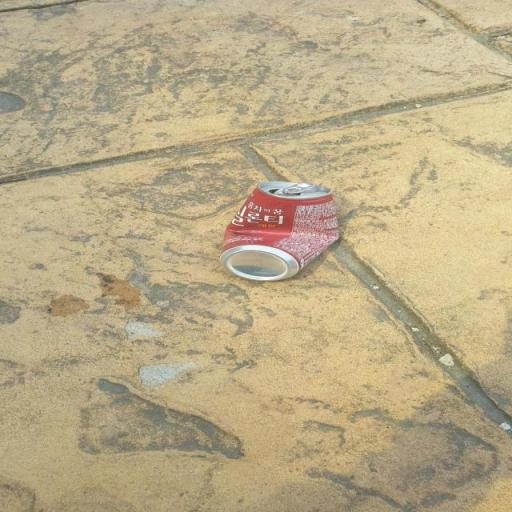metal: (154, 148, 422, 333)
